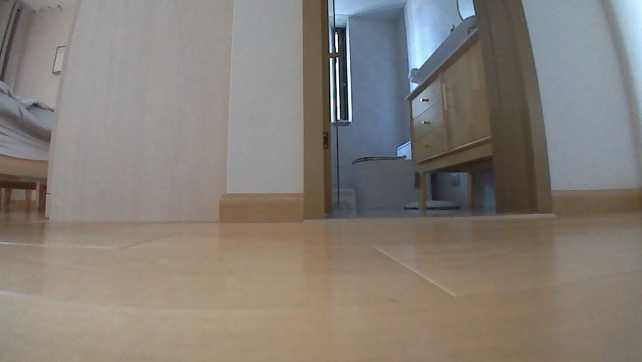toilet: (349, 139, 415, 214)
washstand: (402, 27, 494, 211)
